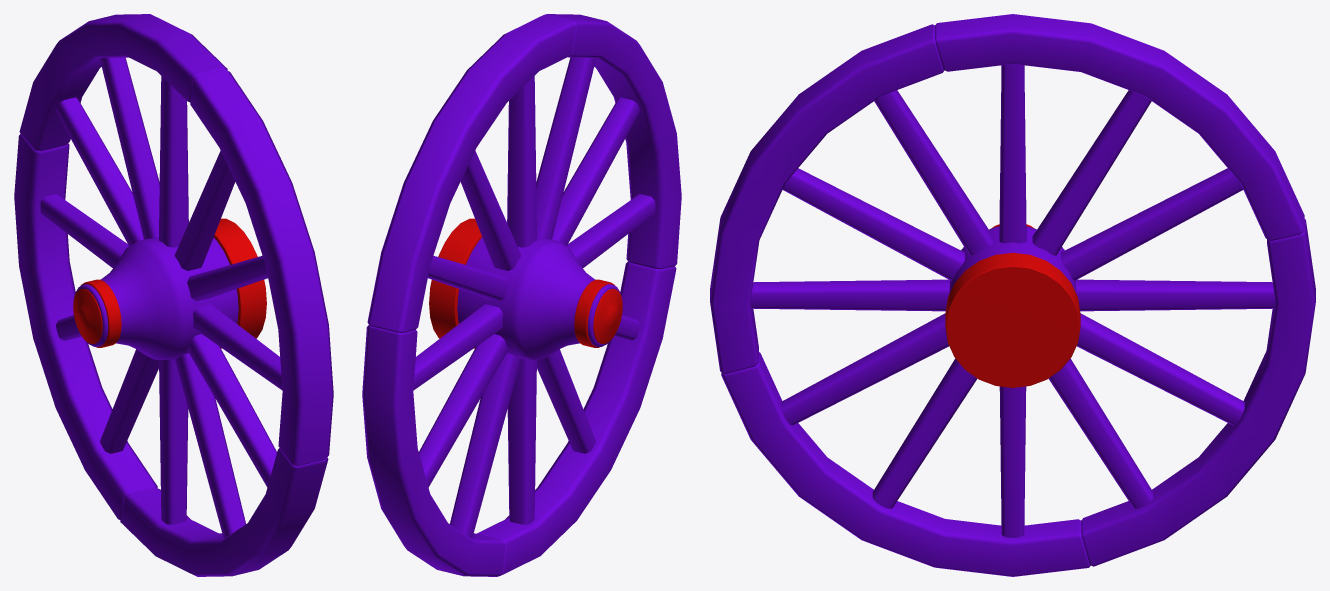
The model's file is FarmingPlow_Wheel.fbx.
3 renders of one model, left to right at view 1: azimuth 30°, elevation 25°; view 2: azimuth 150°, elevation 25°; view 3: azimuth 270°, elevation 25°, orthographic. The views are drawn at different scales.
Visible parts, largest first — view 1: Cube.001; view 2: Cube.001; view 3: Cube.001.
Boxes of the visible parts, left/top/right/bottom form: Cube.001: left=14, top=14, right=333, bottom=576; Cube.001: left=362, top=14, right=681, bottom=576; Cube.001: left=710, top=14, right=1315, bottom=576.
Bounding box in the file's own units: 25.4 × 82.62 × 82.62.
